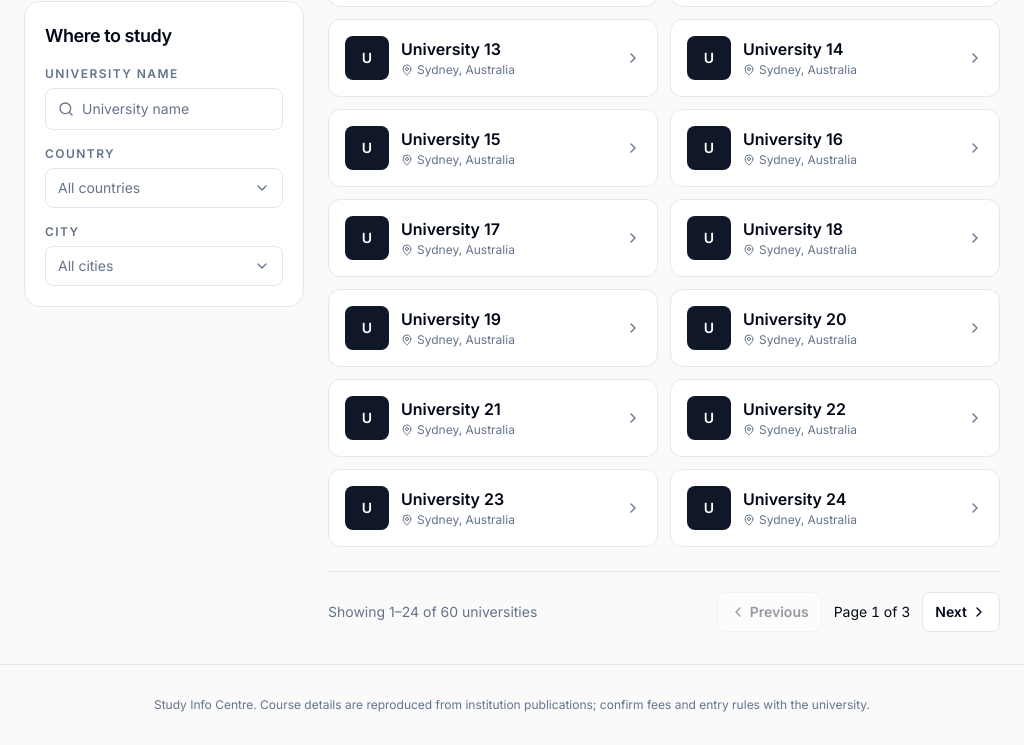
Scenario: public degrees page › university directory pagination › paginates every university, updates the URL and disables boundary controls
(page scrolled)
Expected: the search field with test id "input-university-search" is shown, 82,89 -> 270,129
Expected: the text with test id "text-university-range" reads "Showing 1–24 of 60 universities", 328,602 -> 537,622
Click the button with test id "button-next-university-page". click: (961, 612)
box: 922,592 -> 1000,632
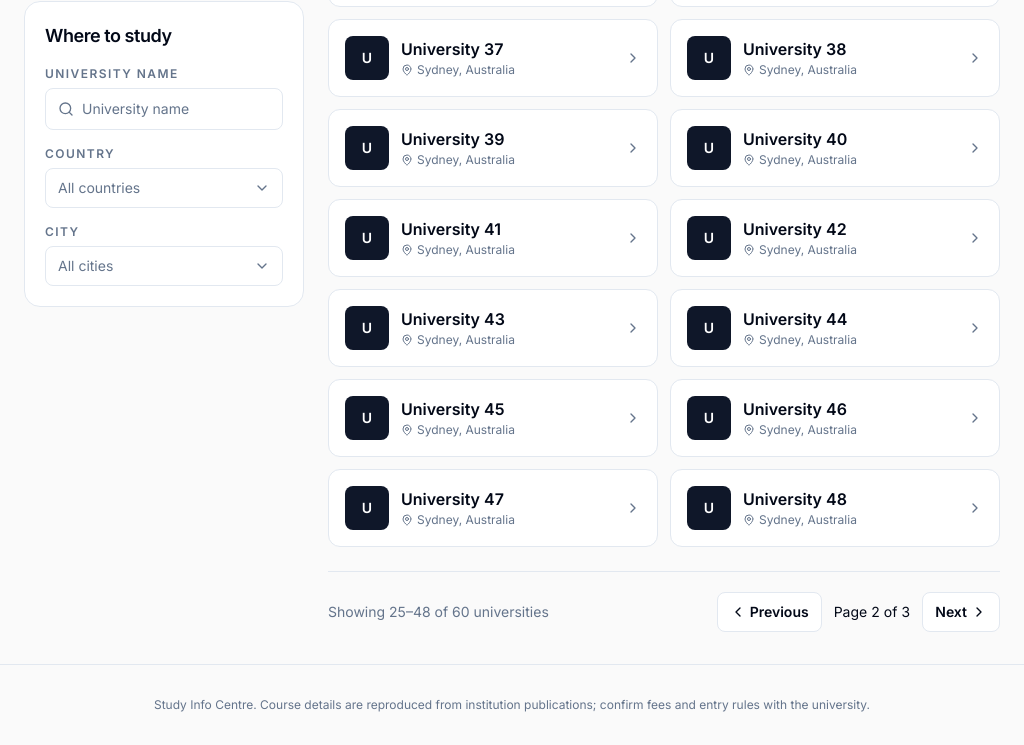
Expected: the text with test id "text-university-page" reads "Page 2 of 3", 834,602 -> 910,622
Click the button with test id "button-next-university-page". click: (961, 612)
box: 922,592 -> 1000,632
(page scrolled)
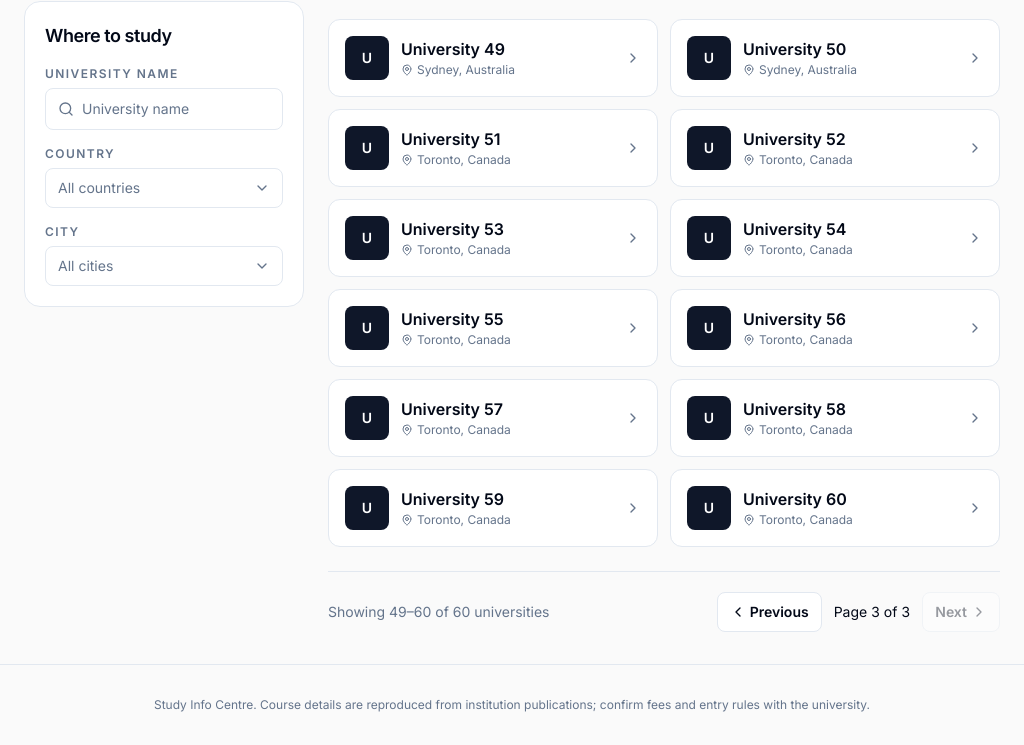
Expected: the text with test id "text-university-range" reads "Showing 49–60 of 60 universities", 328,602 -> 550,622
Expected: the button with test id "button-next-university-page" is disabled, 922,592 -> 1000,632
Click the button with test id "button-prev-university-page". click: (769, 612)
box: 717,592 -> 822,632
(page scrolled)
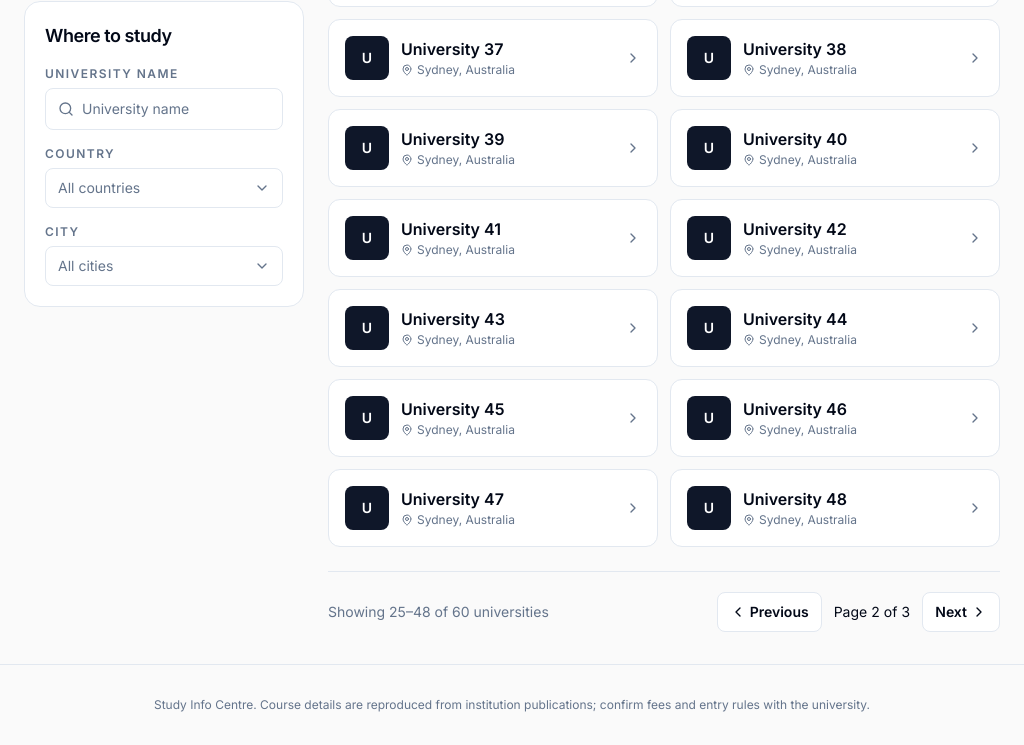
Expected: the text with test id "text-university-page" reads "Page 2 of 3", 834,602 -> 910,622
